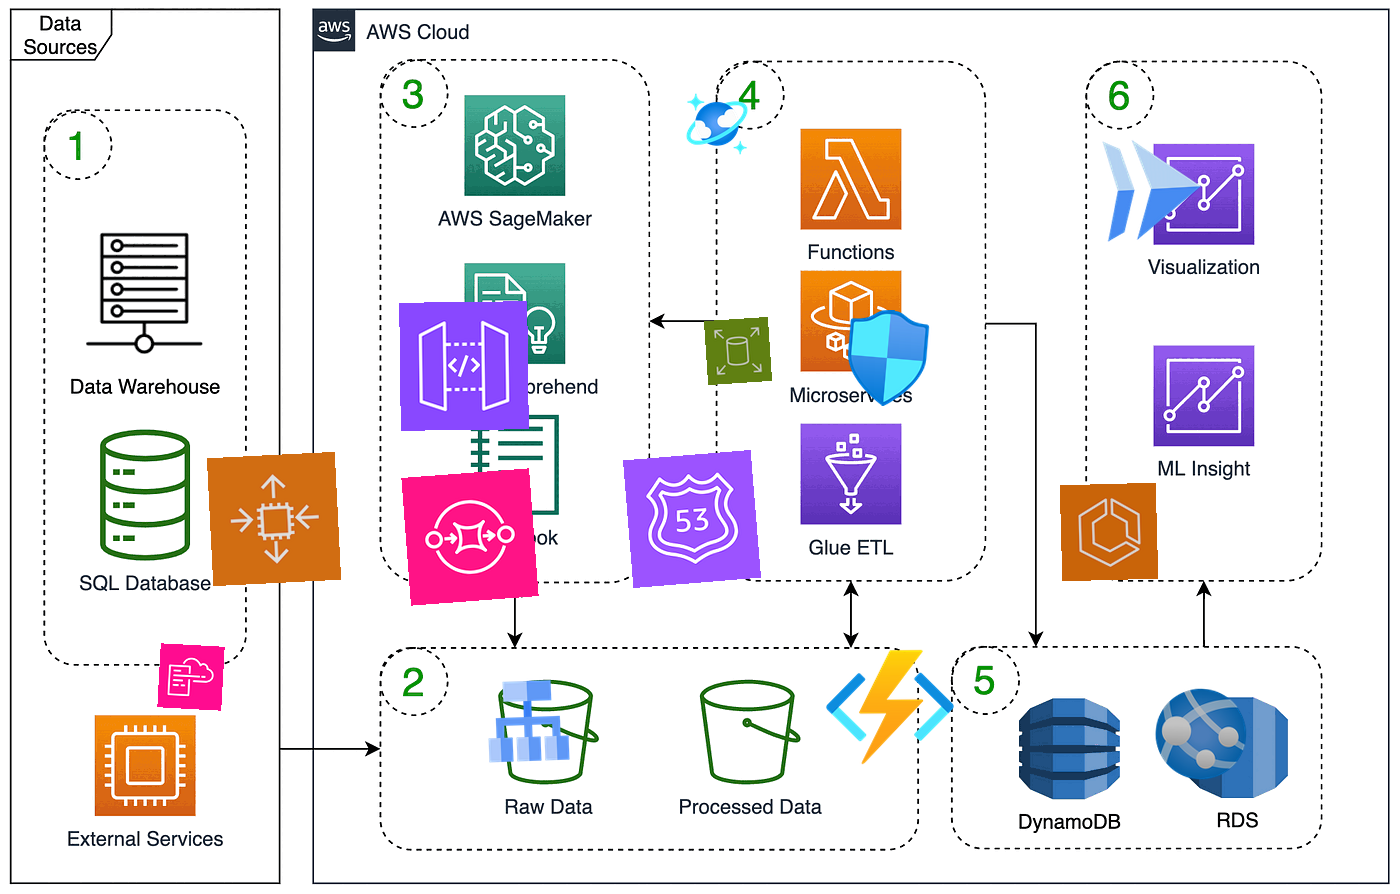aws_amazon_api_gateway: (399, 301, 529, 431)
aws_amazon_ec2_auto_scaling: (206, 451, 342, 587)
aws_amazon_elastic_block_store: (703, 316, 773, 386)
aws_amazon_elastic_container_service: (1059, 482, 1159, 582)
aws_amazon_route_53: (622, 449, 762, 589)
aws_amazon_simple_queue_service: (401, 468, 539, 606)
aws_cloudformation: (157, 643, 224, 711)
azure_app_services: (1150, 683, 1252, 785)
azure_cosmos_db: (684, 91, 750, 157)
azure_function_apps: (824, 642, 955, 772)
azure_network_security_groups: (835, 306, 939, 410)
gcp_cloud_load_balancing: (478, 670, 578, 771)
gcp_cloud_run: (1083, 121, 1219, 257)
